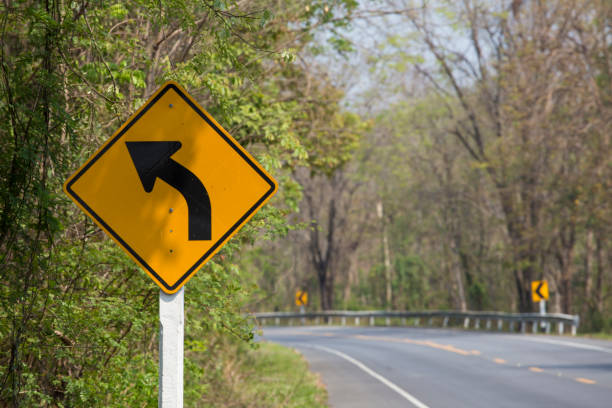left turn: (62, 81, 278, 296), (531, 280, 549, 302), (295, 290, 308, 307)
